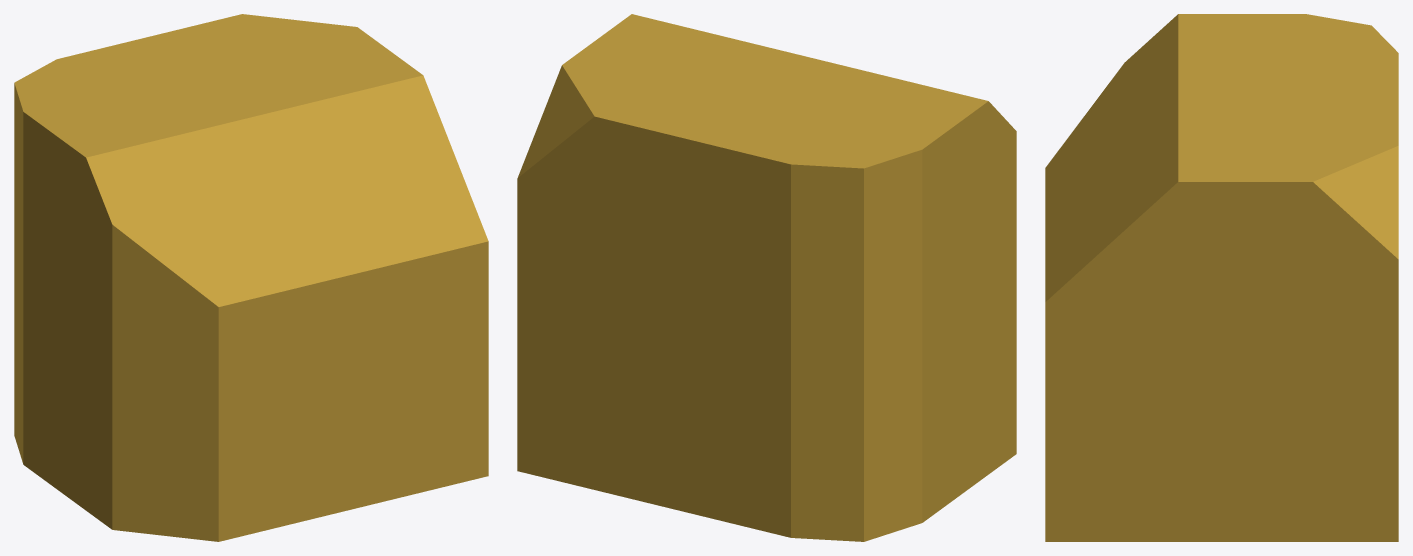
File: Gold Ore.fbx
3 renders of one model, left to right at view 1: azimuth 30°, elevation 25°; view 2: azimuth 150°, elevation 25°; view 3: azimuth 270°, elevation 25°, orthographic. The views are drawn at different scales.
Parts seen in each view (by area): view 1: Gold Ore; view 2: Gold Ore; view 3: Gold Ore.
Part boxes in pixels (box(x1,y1,x2,y2)): Gold Ore: box(14, 14, 488, 541); Gold Ore: box(517, 14, 1016, 541); Gold Ore: box(1045, 14, 1398, 541).
Bounding box in the file's own units: 2 × 1.78 × 2.
